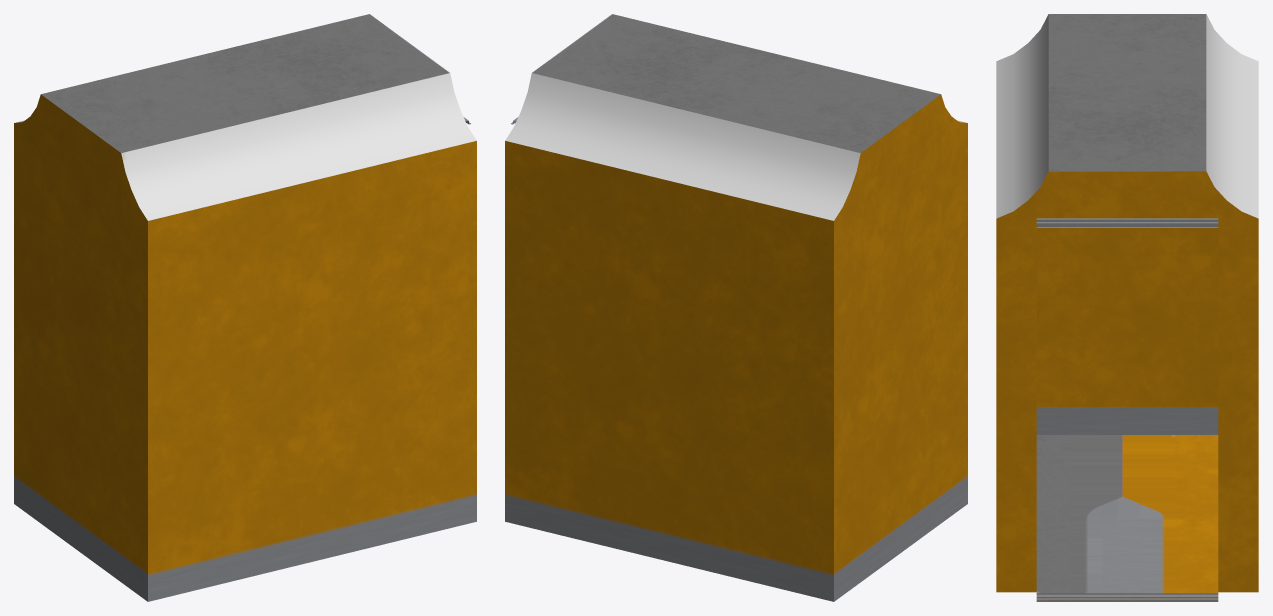
Rendered from patro1-chodbaKratka-vytah.fbx.
3 renders of one model, left to right at view 1: azimuth 30°, elevation 25°; view 2: azimuth 150°, elevation 25°; view 3: azimuth 270°, elevation 25°, orthographic. The views are drawn at different scales.
Parts seen in each view (by area): view 1: Vytah.Front, Vytah.Left, Vytah.Top; view 2: Vytah.Back, Vytah.Left, Vytah.Top; view 3: Vytah.Top, Vytah.Right, Vytah.Left, Vytah.Bottom.
Boxes of the visible parts, left/top/right/bottom form: Vytah.Front: left=148, top=141, right=476, bottom=601; Vytah.Left: left=14, top=94, right=466, bottom=601; Vytah.Top: left=15, top=14, right=476, bottom=220; Vytah.Back: left=505, top=141, right=833, bottom=601; Vytah.Left: left=515, top=94, right=967, bottom=601; Vytah.Top: left=505, top=14, right=966, bottom=220; Vytah.Top: left=996, top=14, right=1258, bottom=227; Vytah.Right: left=996, top=171, right=1258, bottom=601; Vytah.Left: left=1036, top=228, right=1218, bottom=598; Vytah.Bottom: left=1036, top=435, right=1218, bottom=599.
Size of the model in its own units: 193 by 232 by 130.
Materials: 1 (1 with a texture image).
